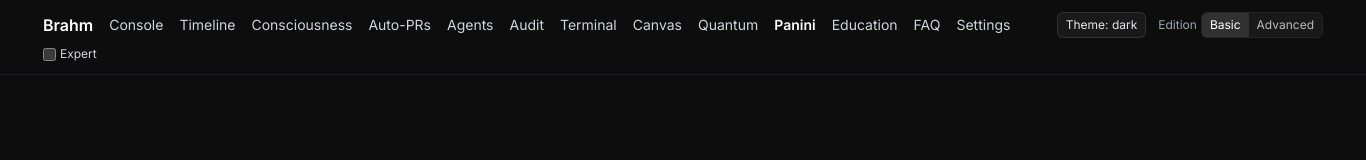
Test case: SiteHeader › renders labels and expert toggle
The image size is (1366, 160).
Expected: the text "Model" is not shown
What coordinates should you click on to do the following:
click the checkbox labelled "Expert"
I would click on:
 (50, 54)
Its box is 43,48 -> 56,60.
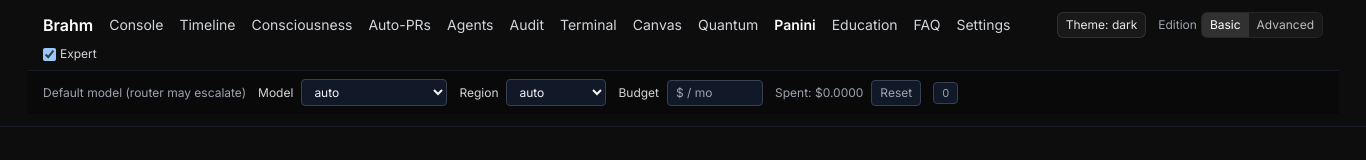
Result: the text "Model" is shown at 258,84 -> 293,100
